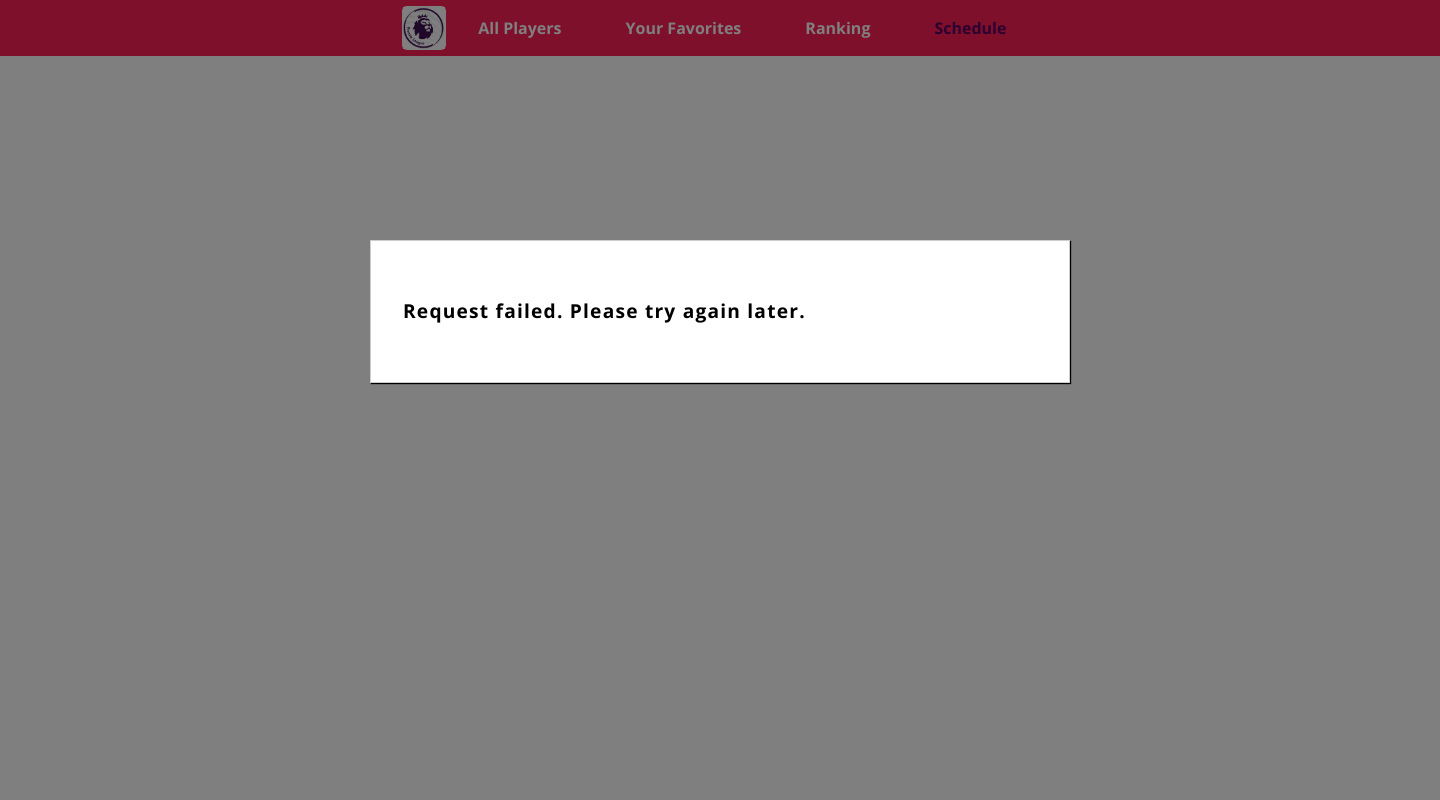
Test: エラーモーダルの表示 › モーダル閉じたらローディングスピナーが表示される
Click the element with class "Backdrop" at [720, 400], box [0,0,1439,799]
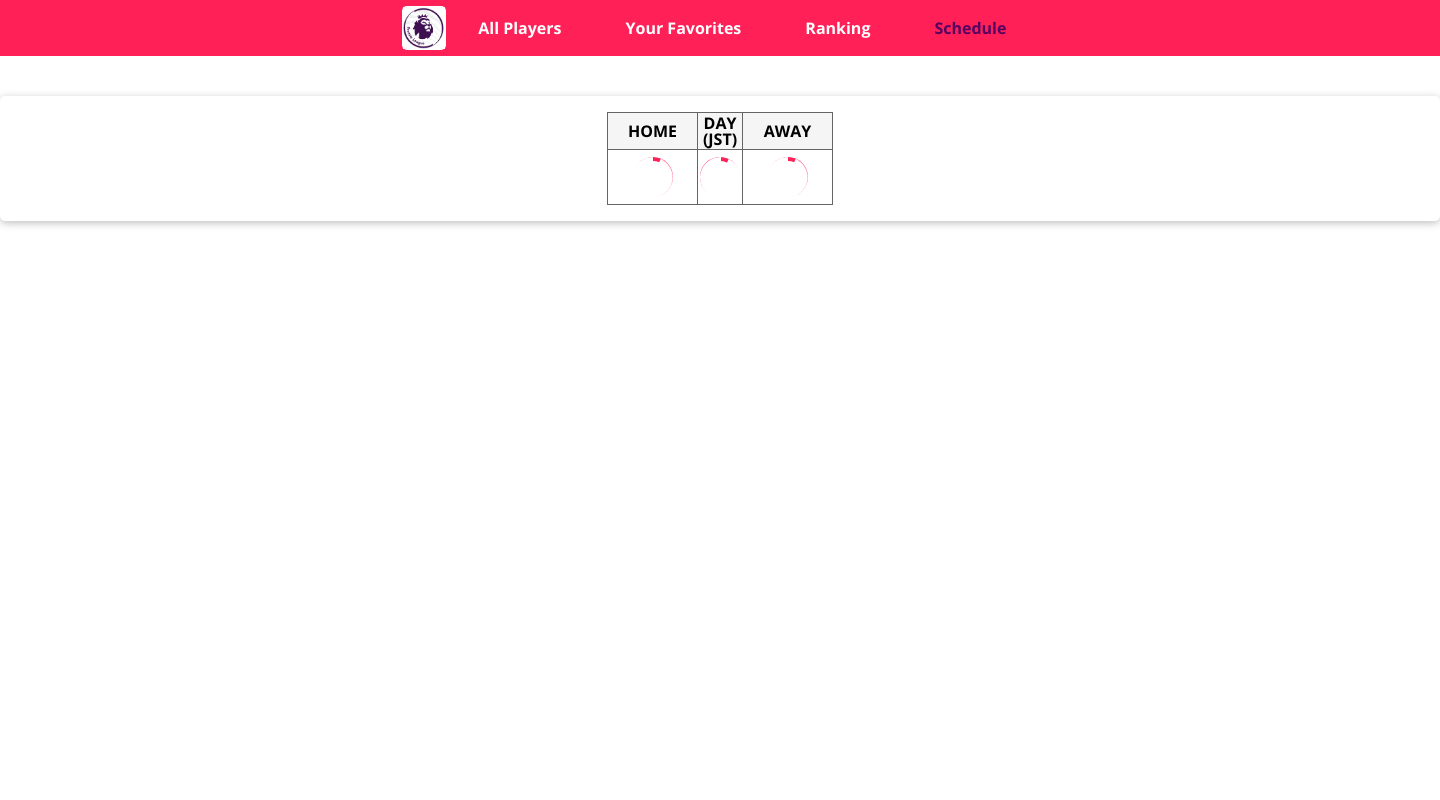
Expected: the 1st text with class "Loader" is shown, [633,157,673,197]
